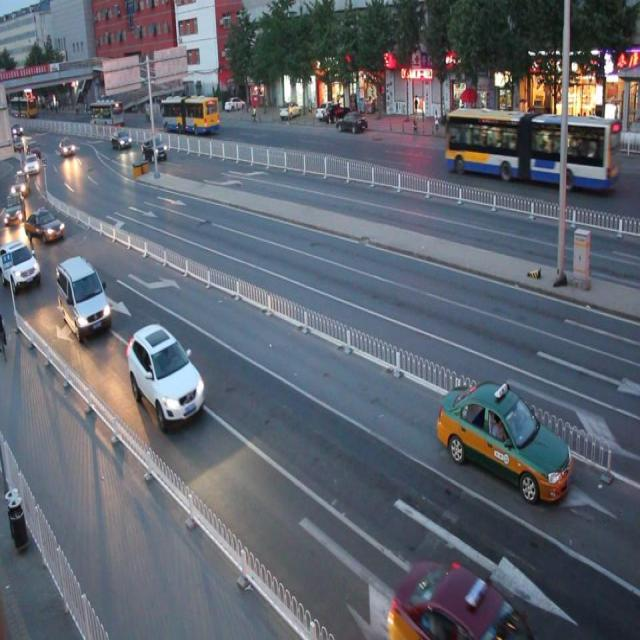car: (435, 383, 574, 499), (388, 558, 533, 640), (125, 321, 207, 426), (56, 255, 113, 339)
van: (445, 103, 620, 194)
